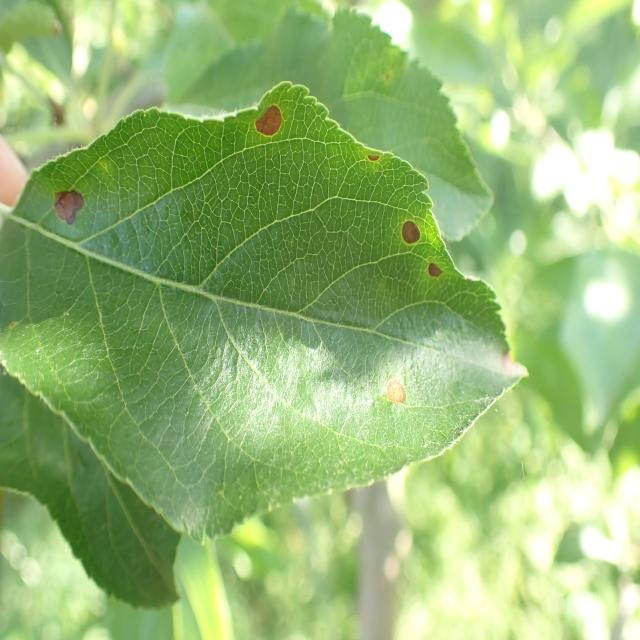Black Rot: (494, 325, 543, 418), (238, 73, 290, 160), (49, 155, 88, 262), (375, 365, 421, 427), (391, 216, 434, 255), (360, 122, 386, 184), (426, 251, 450, 284)
